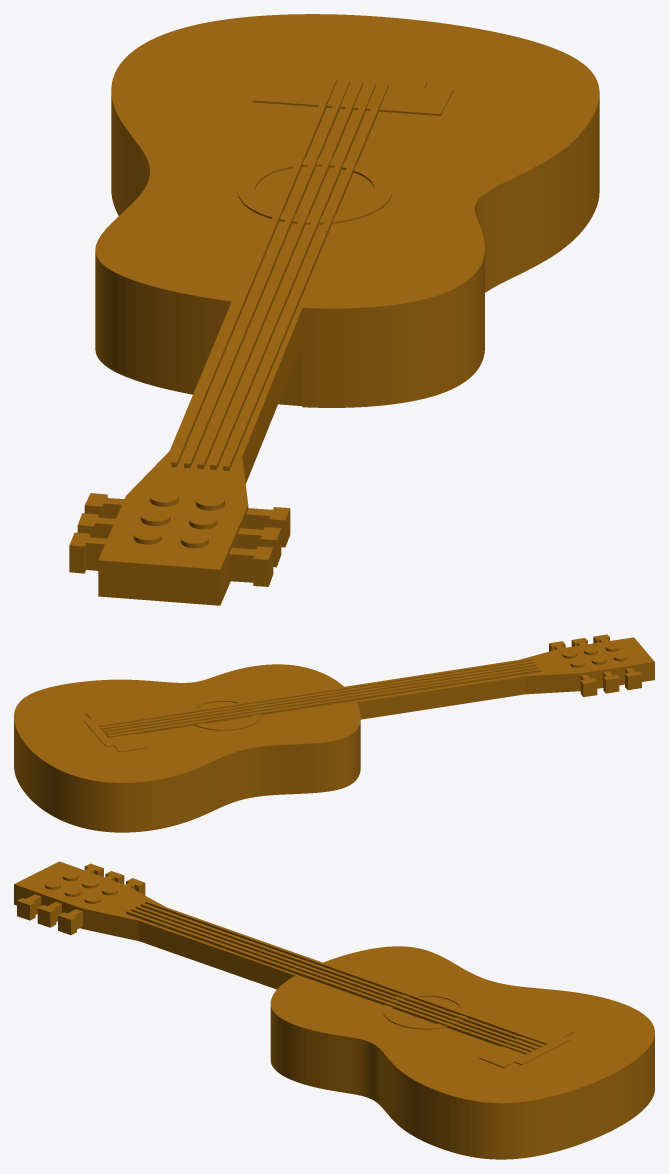
Rendered from asset.glb.
3 views of the same model, one above another, from view 1: azimuth 30°, elevation 25°; view 2: azimuth 150°, elevation 25°; view 3: azimuth 270°, elevation 25° (orthographic). The views are drawn at different scales.
Visible parts, largest first — view 1: stlmesh; view 2: stlmesh; view 3: stlmesh.
Part boxes in pixels (x1,y1,x2,y2): stlmesh: (69, 14, 599, 605); stlmesh: (14, 634, 654, 832); stlmesh: (14, 861, 654, 1159).
Bounding box in the file's own units: 75.95 × 8.63 × 84.95.
